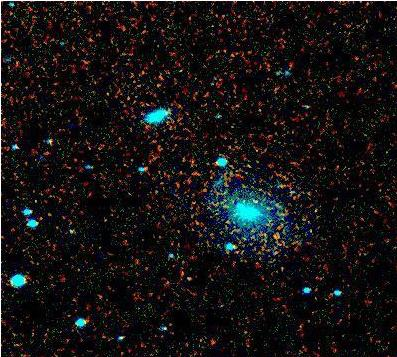star: (260, 219, 290, 249)
